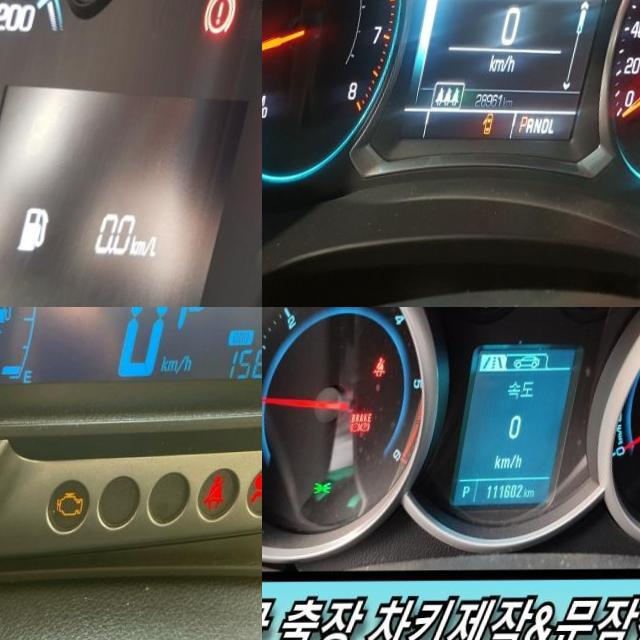Doors: (495, 113, 508, 135)
SideLamp: (326, 481, 345, 494)
